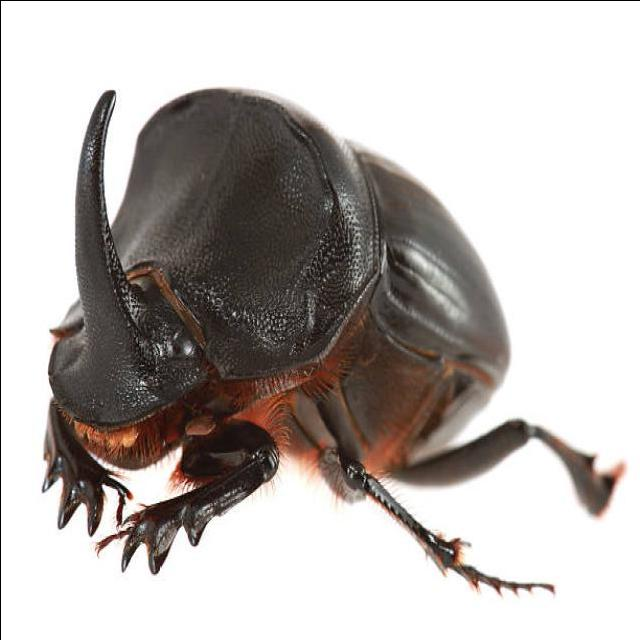Rhino-beetle: (38, 78, 580, 591)
